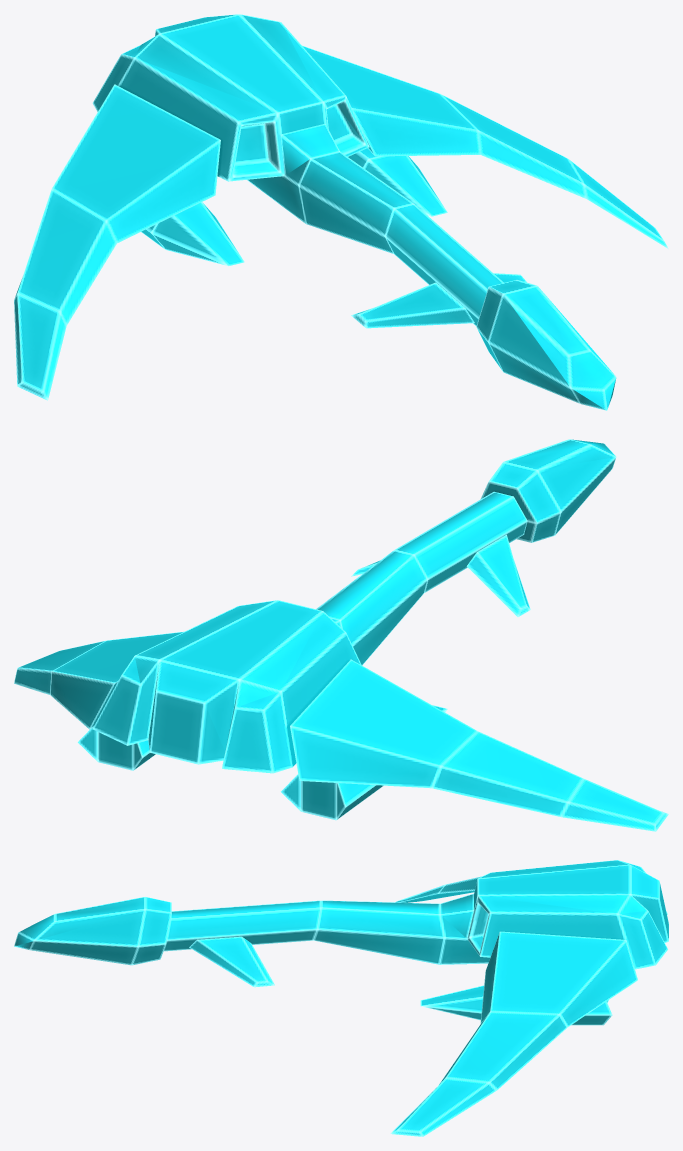
The model's file is ally_gas_hauler.FBX.
The picture shows the model from 3 angles, top to bottom: view 1: azimuth 30°, elevation 25°; view 2: azimuth 150°, elevation 25°; view 3: azimuth 270°, elevation 25°; orthographic projection. The views are drawn at different scales.
Visible parts, largest first — view 1: Gas_hauler_player; view 2: Gas_hauler_player; view 3: Gas_hauler_player.
Boxes of the visible parts, box(x1,y1,x2,y2) form: Gas_hauler_player: box(14, 14, 668, 410); Gas_hauler_player: box(14, 439, 668, 831); Gas_hauler_player: box(14, 860, 668, 1136).
Bounding box in the file's own units: 95.73 × 26.47 × 112.
